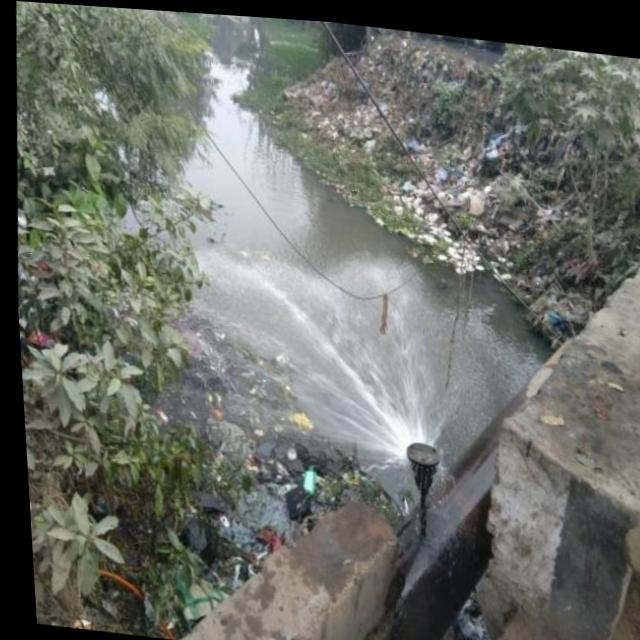leak: (187, 24, 549, 497)
